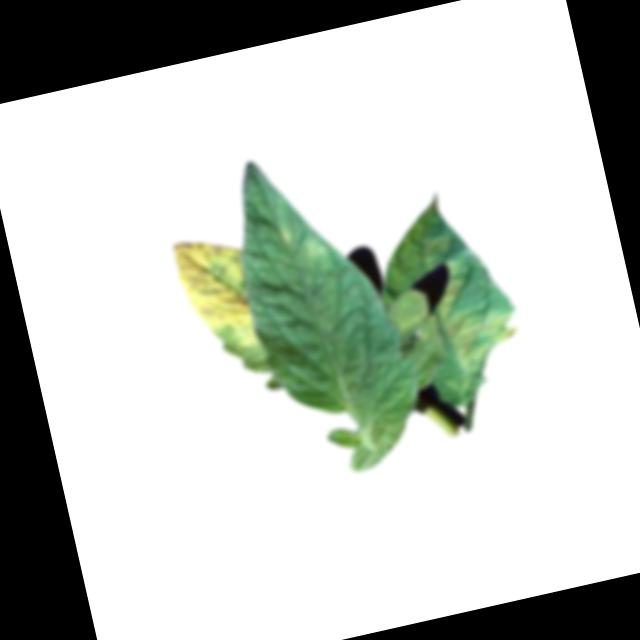Leaf_Mold: (369, 197, 530, 392), (168, 228, 266, 363), (275, 213, 334, 267)
